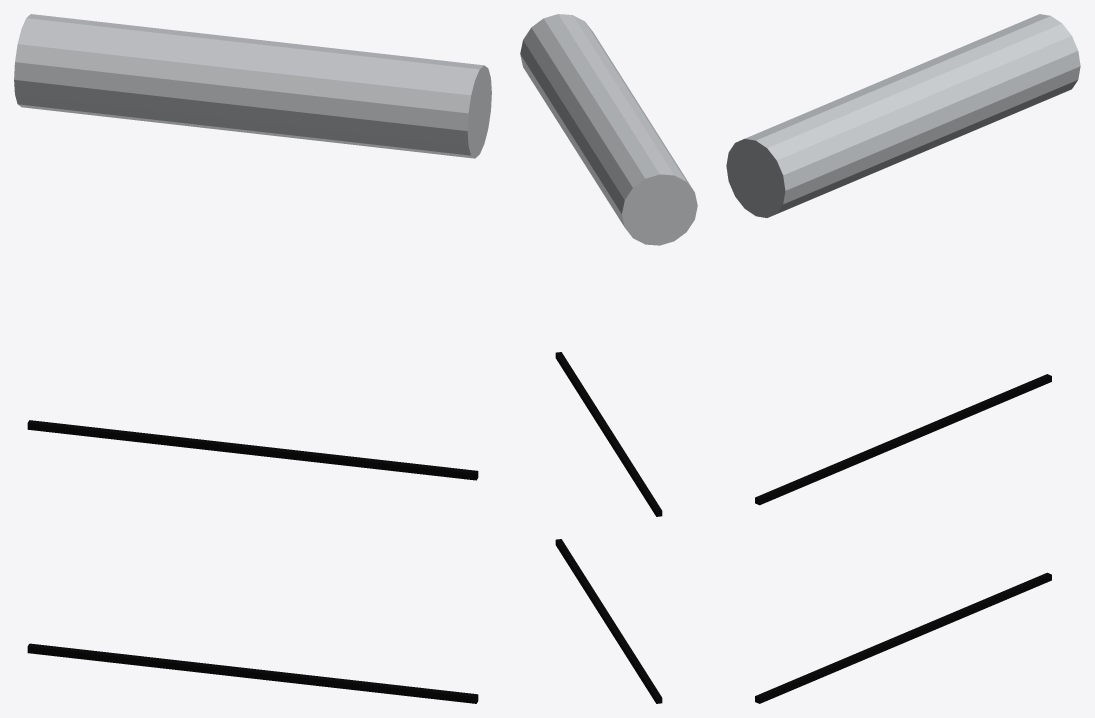
The model's file is 45d_moretop_0.obj.
3 views of the same model, side by side, from view 1: azimuth 30°, elevation 25°; view 2: azimuth 150°, elevation 25°; view 3: azimuth 270°, elevation 25° (orthographic). The views are drawn at different scales.
Visible parts, largest first — view 1: zd, moretop_1.004; view 2: zd, moretop_1.004; view 3: zd, moretop_1.004.
Boxes of the visible parts, x1,y1,x2,y2 form: zd: [14, 14, 491, 158]; moretop_1.004: [27, 420, 478, 703]; zd: [520, 14, 697, 245]; moretop_1.004: [555, 352, 662, 703]; zd: [726, 14, 1080, 217]; moretop_1.004: [755, 374, 1051, 703].
Size of the model in its own units: 1.7 by 2.98 by 1.7.
Materials: 2 (2 with a texture image).
